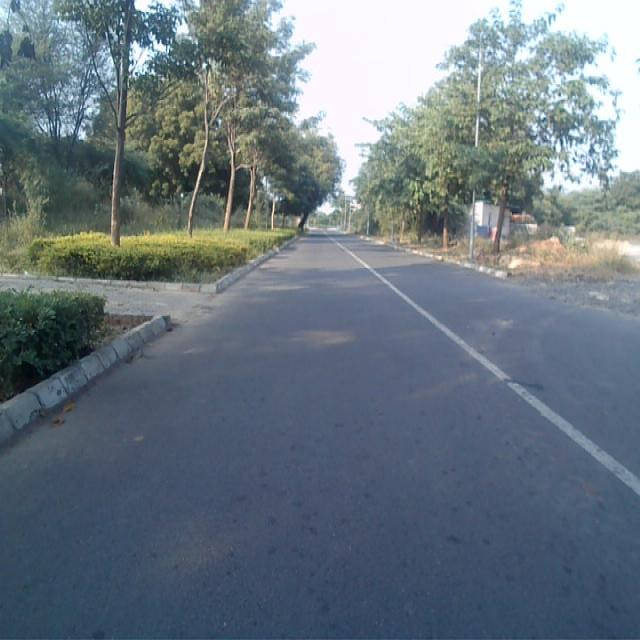lane: (0, 234, 640, 640)
